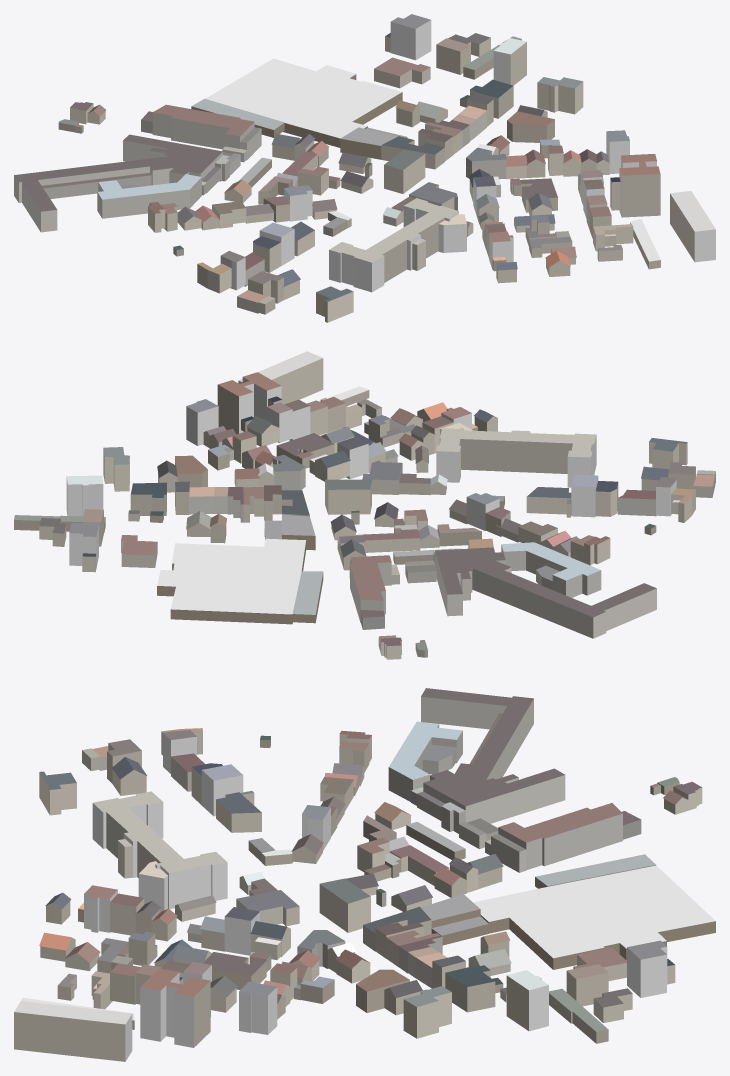
3 views of the same model, one above another, from view 1: azimuth 30°, elevation 25°; view 2: azimuth 150°, elevation 25°; view 3: azimuth 270°, elevation 25° (orthographic). The views are drawn at different scales.
Visible parts, largest first — view 1: tuile; view 2: tuile; view 3: tuile.
Boxes of the visible parts, x1,y1,x2,y2 form: tuile: (14, 14, 715, 322); tuile: (14, 351, 715, 659); tuile: (14, 688, 715, 1061).
Bounding box in the file's own units: 305 × 31.44 × 275.
